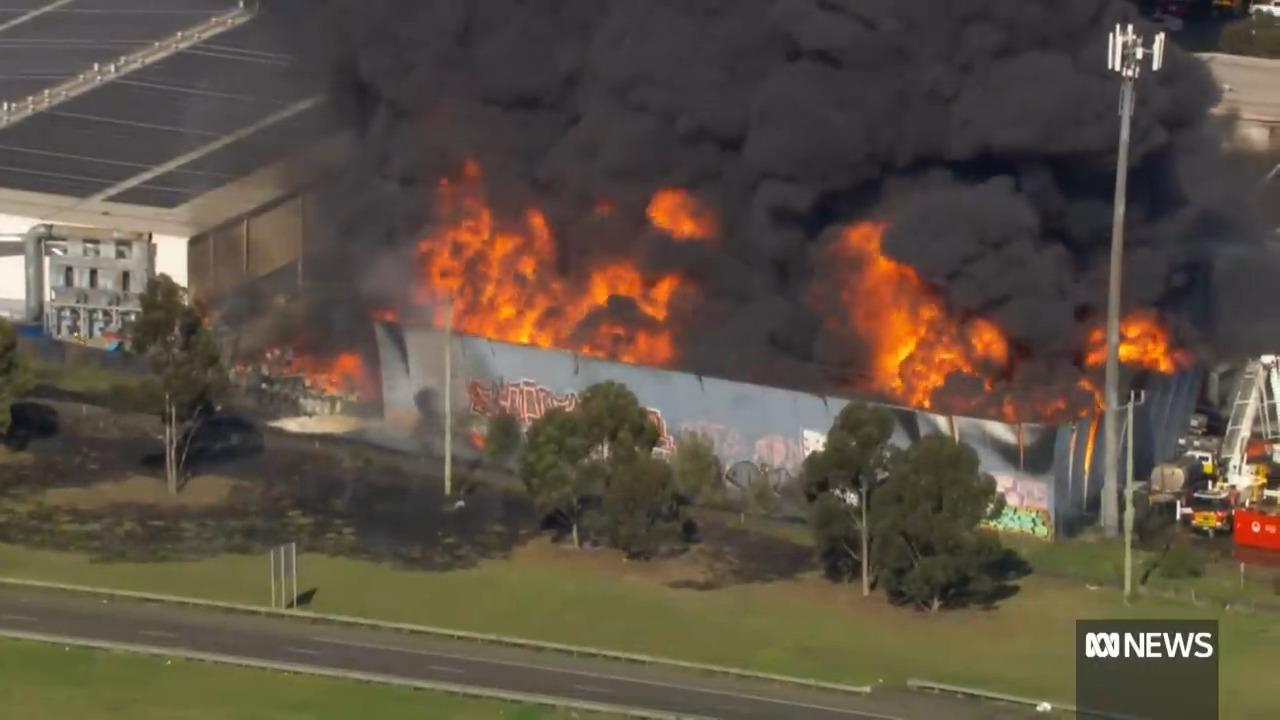fire: (400, 177, 700, 353), (831, 255, 1010, 401), (1089, 316, 1185, 377)
